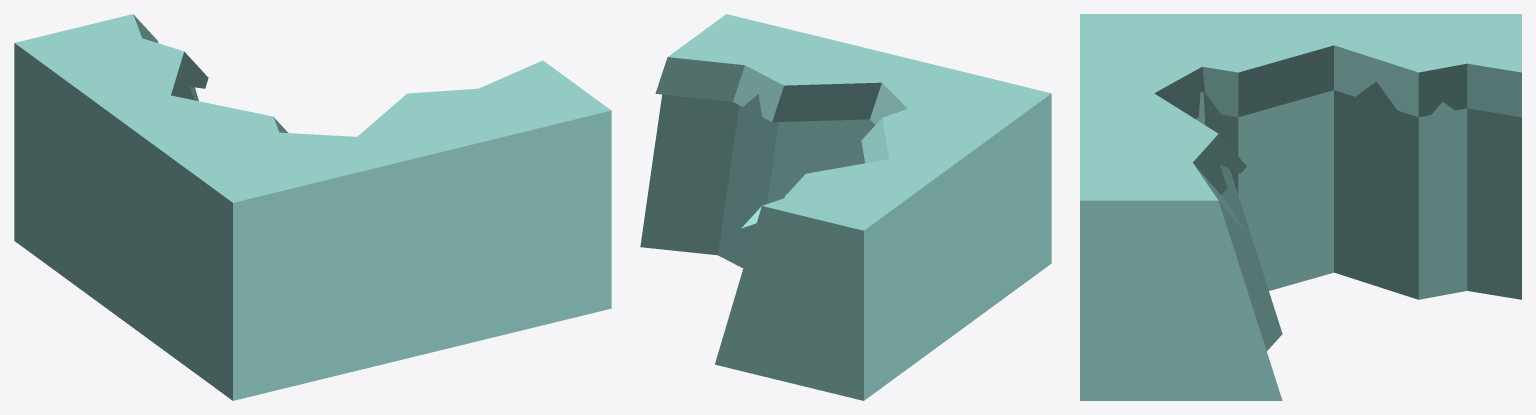
File: cliffBrown_halfCornerInner.glb
3 views of the same model, side by side, from view 1: azimuth 30°, elevation 25°; view 2: azimuth 150°, elevation 25°; view 3: azimuth 270°, elevation 25° (orthographic). The views are drawn at different scales.
Visible parts, largest first — view 1: cliffBrown_halfCornerInner; view 2: cliffBrown_halfCornerInner; view 3: cliffBrown_halfCornerInner.
Boxes of the visible parts, <box> form: cliffBrown_halfCornerInner: <box>14,14,611,400</box>; cliffBrown_halfCornerInner: <box>640,14,1051,400</box>; cliffBrown_halfCornerInner: <box>1080,14,1521,400</box>.
Size of the model in its own units: 10 by 5 by 10.
